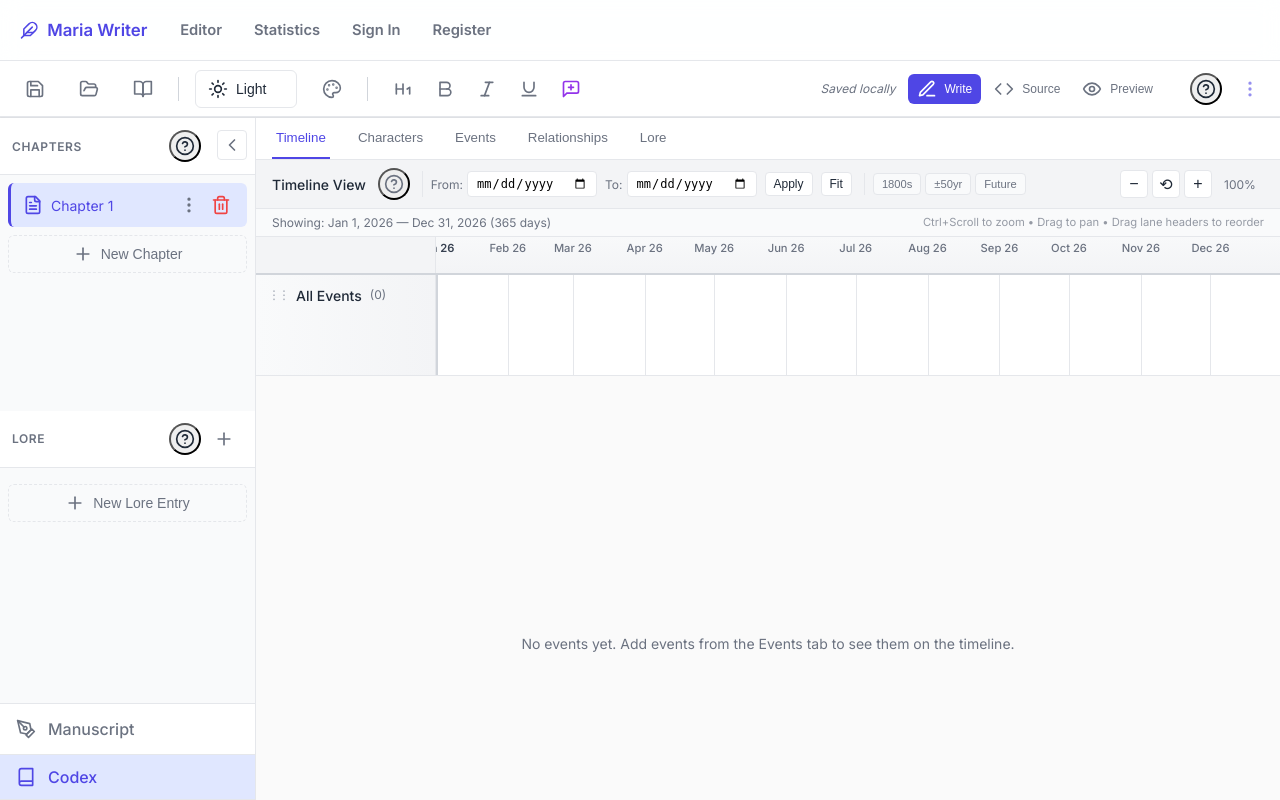
it: App Integration › opens Metadata modal
The image size is (1280, 800).
What coordinates should you click on to do the following:
click the button titled "Info"
I would click on:
 (143, 89)
Its box is 124,74 -> 162,104.
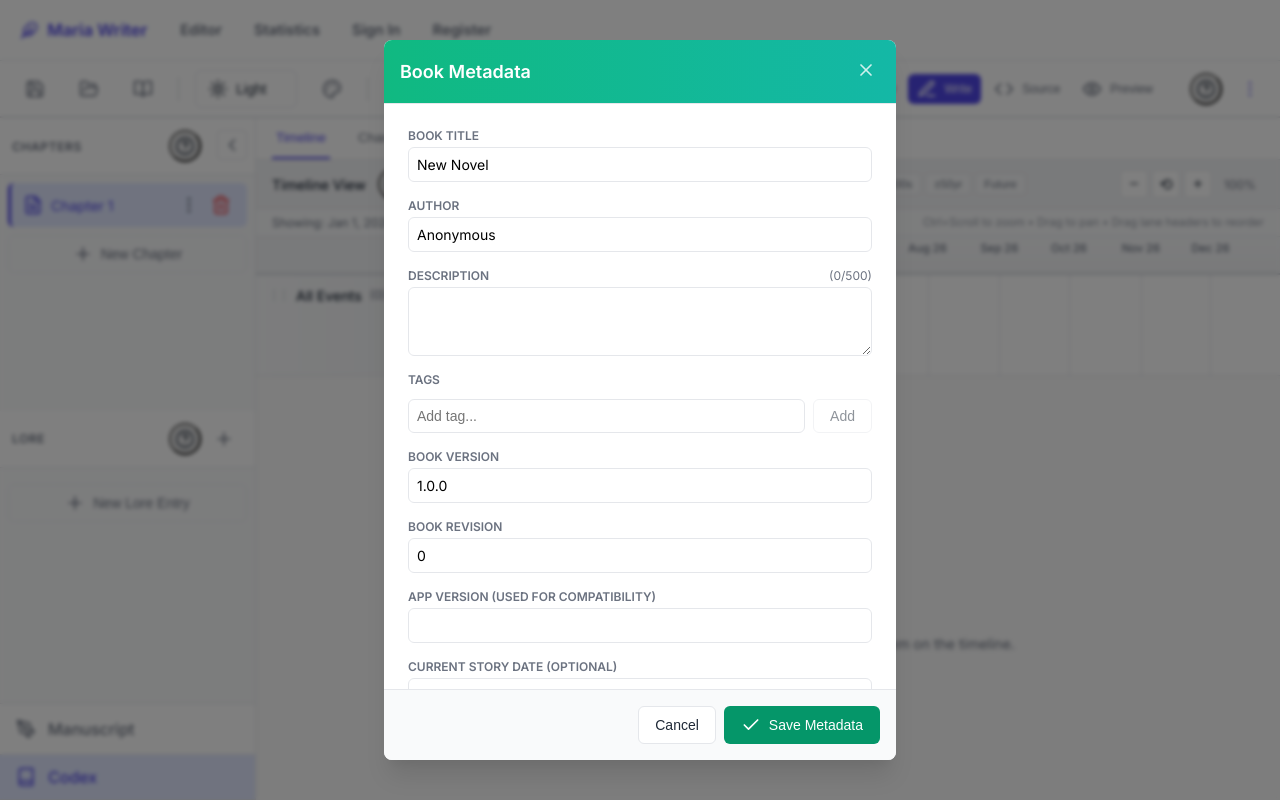
Now the heading "Book Metadata" is shown, box 400,61 -> 531,82
